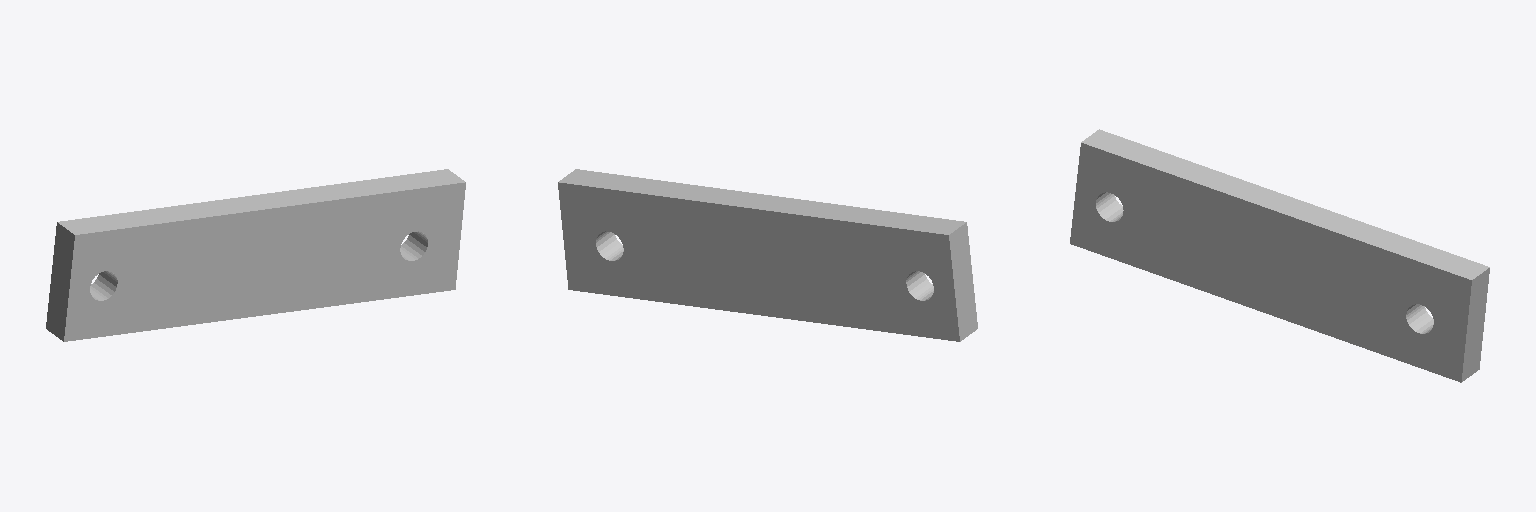
The model's file is cad-Cut007.obj.
The picture shows the model from 3 angles: view 1: azimuth 30°, elevation 25°; view 2: azimuth 150°, elevation 25°; view 3: azimuth 330°, elevation 25°; orthographic projection.
Visible parts, largest first — view 1: Cut007; view 2: Cut007; view 3: Cut007.
Part boxes in pixels (x1,y1,x2,y2): Cut007: (46, 169, 465, 341); Cut007: (558, 169, 977, 341); Cut007: (1070, 129, 1489, 382).
Size of the model in its own units: 32.03 by 11.23 by 2.5.